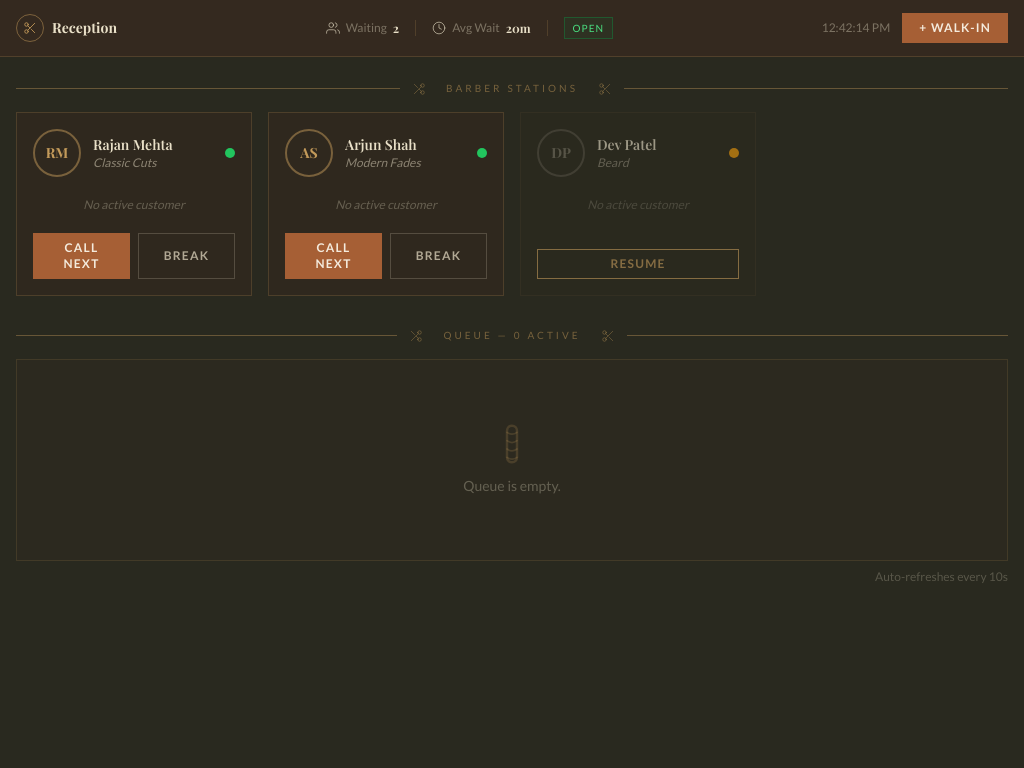
ReceptionPage — walk-in modal › renders all services in the walk-in form
The width and height of the screenshot is (1024, 768).
Step 1. Click the button "+ Walk-In" → (955,28), box [902, 13, 1008, 43]
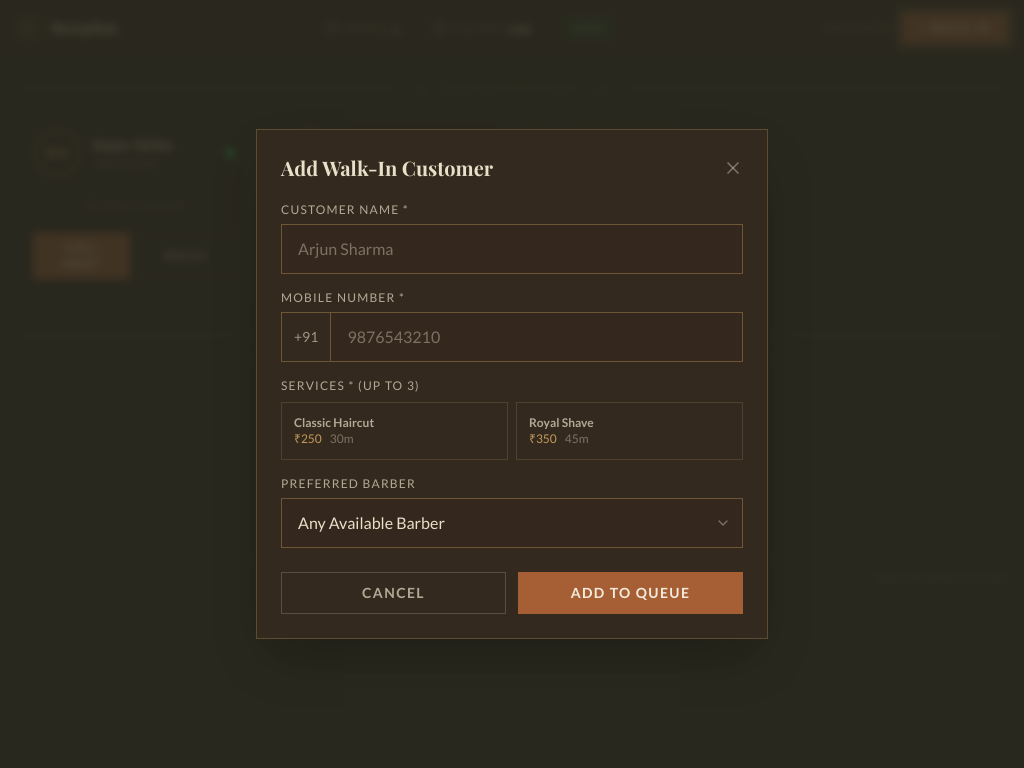
Result: the text "Classic Haircut" is shown at [294, 415, 374, 430]
Result: the text "Royal Shave" is shown at [529, 415, 594, 430]
